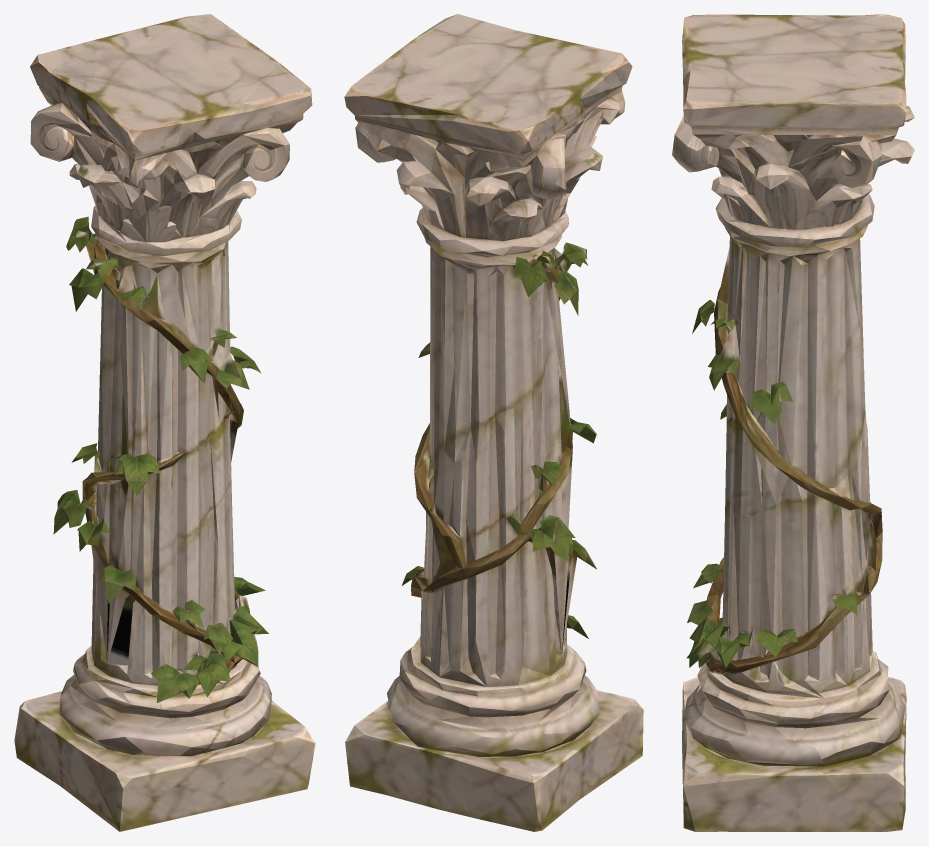
Rendered from prop_column.glb.
3 renders of one model, left to right at view 1: azimuth 30°, elevation 25°; view 2: azimuth 150°, elevation 25°; view 3: azimuth 270°, elevation 25°, orthographic. The views are drawn at different scales.
Visible parts, largest first — view 1: output_unwrapped; view 2: output_unwrapped; view 3: output_unwrapped.
Boxes of the visible parts, left/top/right/bottom form: output_unwrapped: left=14, top=14, right=315, bottom=831; output_unwrapped: left=344, top=14, right=643, bottom=831; output_unwrapped: left=672, top=14, right=914, bottom=831.
Bounding box in the file's own units: 0.5834 × 1.9 × 0.5748.
Materials: 1 (1 with a texture image).
